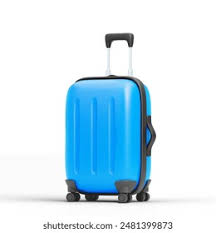suitcase: (60, 32, 157, 205)
